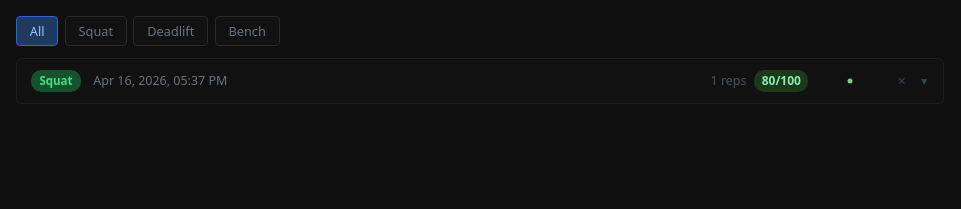
HistoryView — expand / collapse › expands a session when its header is clicked
This screenshot has width=961, height=209.
Click the button "Squat Apr 16, 2026, 05:37 PM 1 reps 80/100 ✕ ▼": coordinates (56, 81) [17, 59, 943, 103]
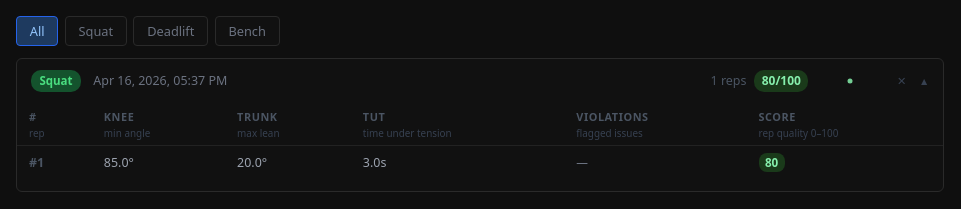
Check: the text "#1" is shown, box [17, 146, 92, 179]
